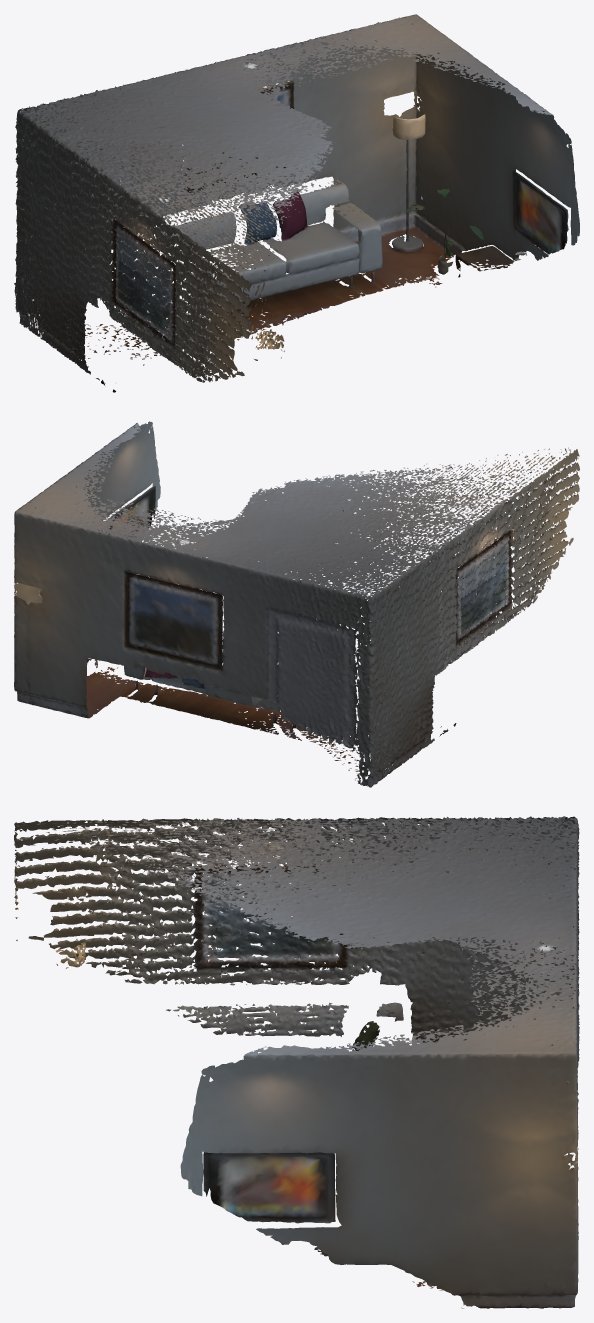
File: tsdf_tuned_gt.glb
3 views of the same model, one above another, from view 1: azimuth 30°, elevation 25°; view 2: azimuth 150°, elevation 25°; view 3: azimuth 270°, elevation 25° (orthographic). The views are drawn at different scales.
Bounding box in the file's own units: 4.96 × 2.53 × 4.99.
